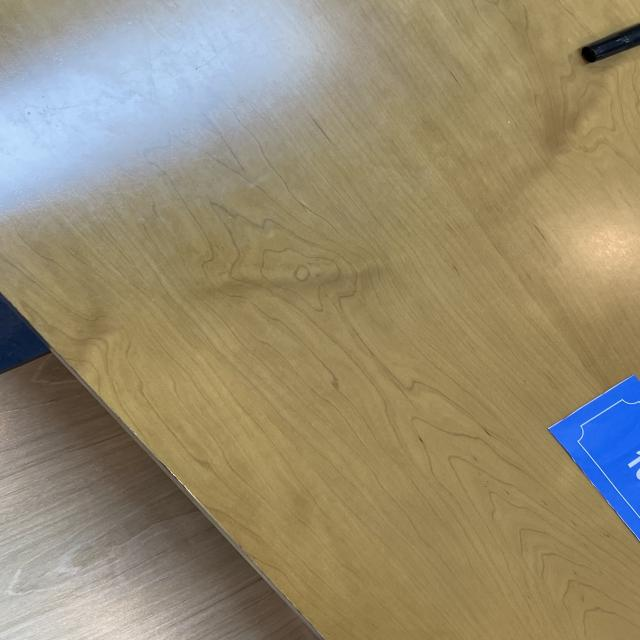Card: (539, 347, 640, 585)
